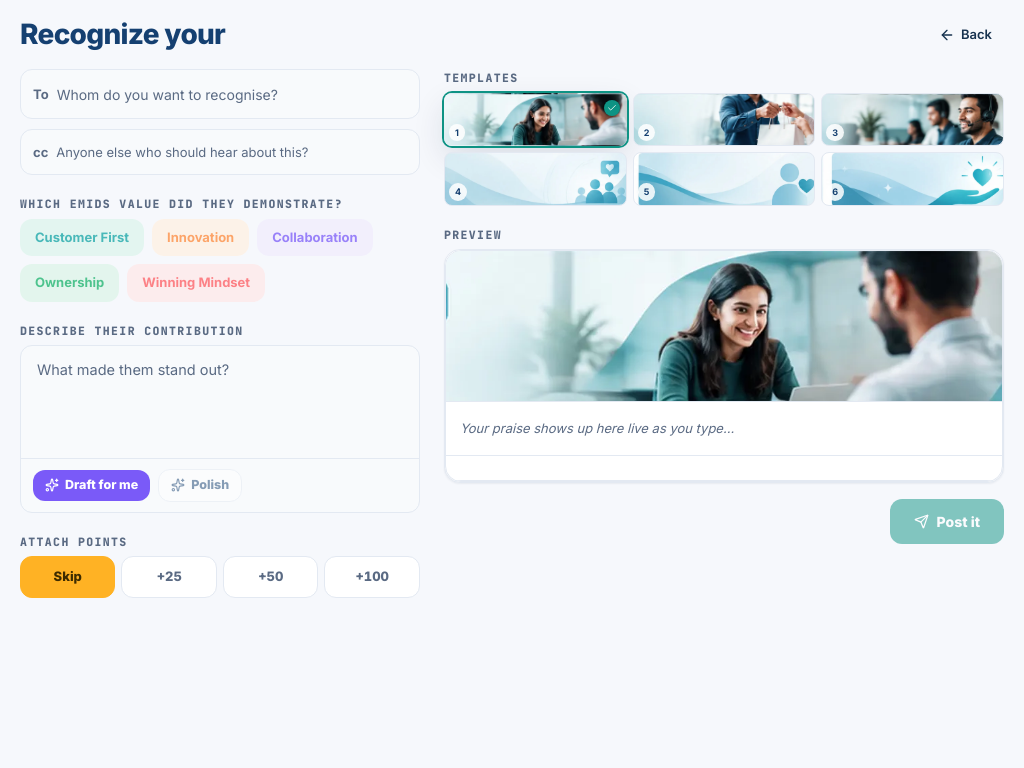
Test: ComposeForm extras (client interactions) › template variant selection and the expanded preview modal open and close
Later steps or results of the test are not shown.
In the field with placeholder "Whom do you want to recognise?": (232, 94) [57,78,407,110], type "priya"
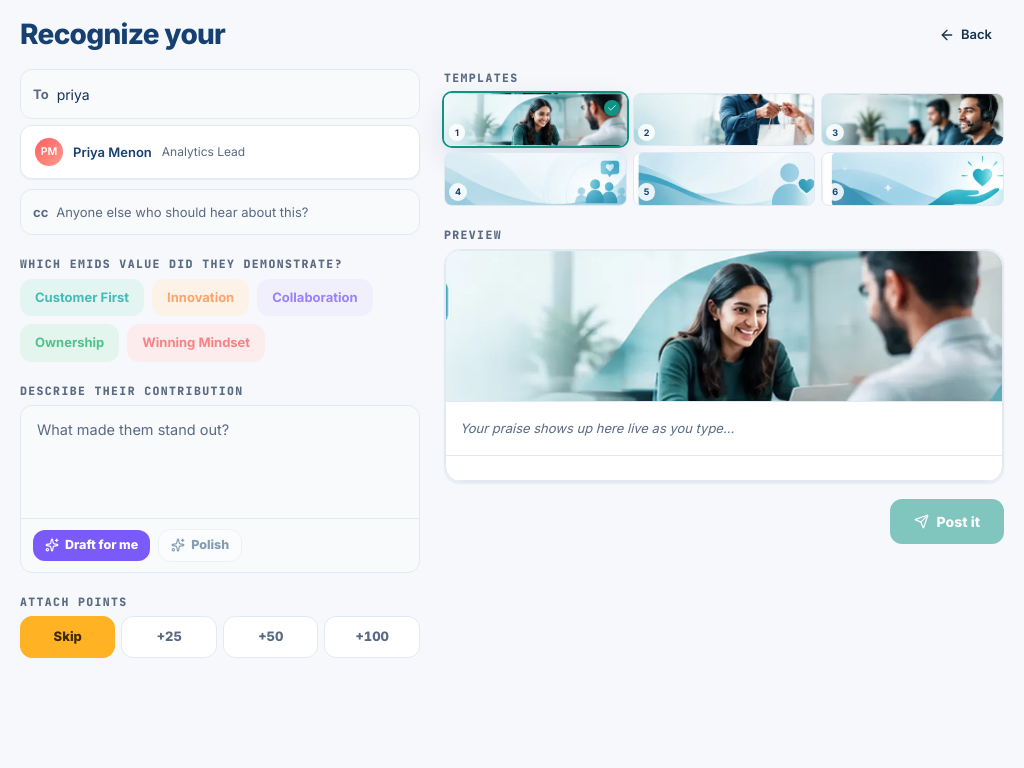
Click the text "Priya Menon": (112, 152) [73,143,152,162]
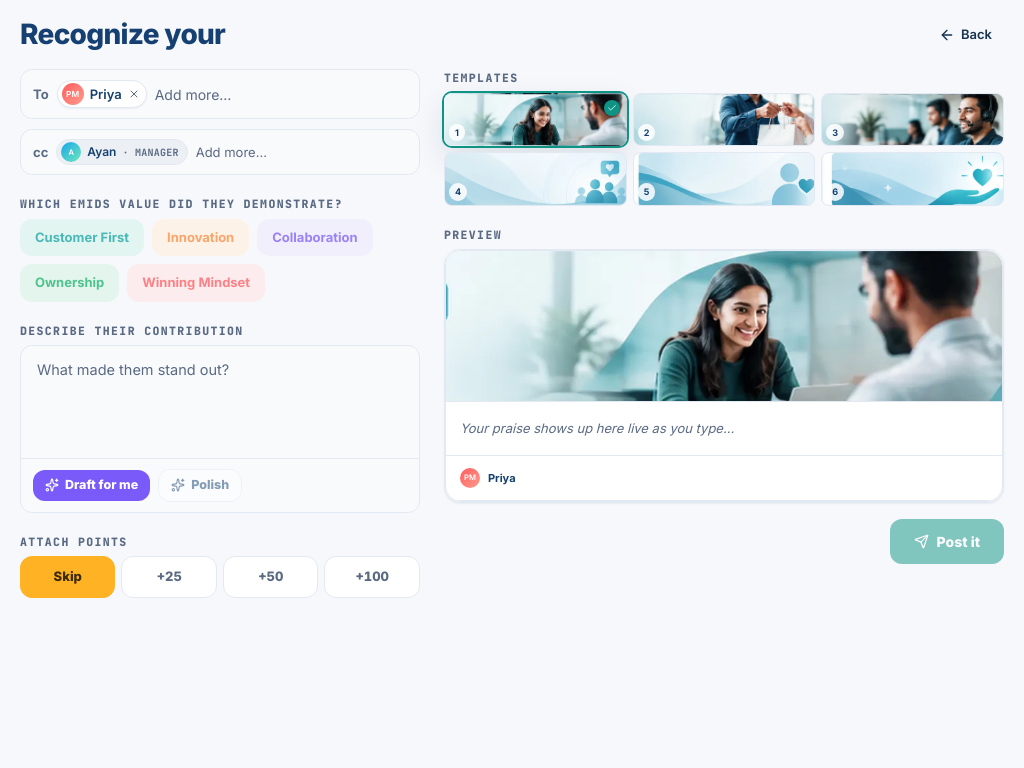
Click the button "Ownership": (70, 283) [20,264,119,302]
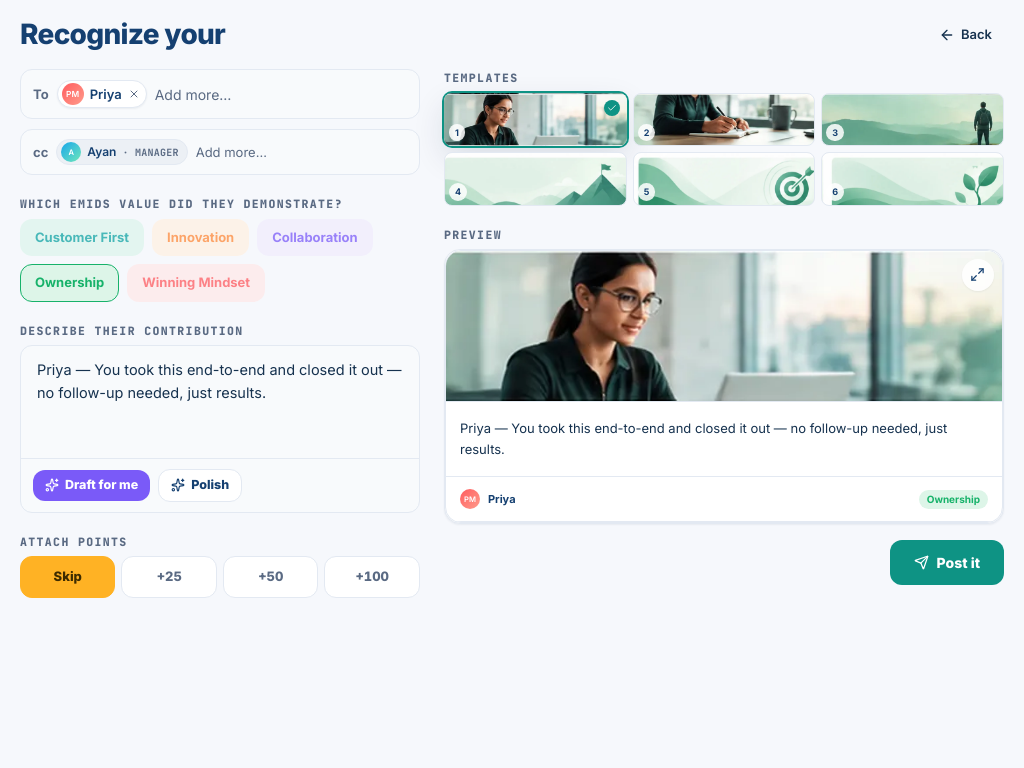
canSend unlocks the maximiser
Replace the text in the text box with placeholder "What made them stand out?" with "Priya shipped the migration ahead of the deadline.": (220, 399) [21,346,419,452]
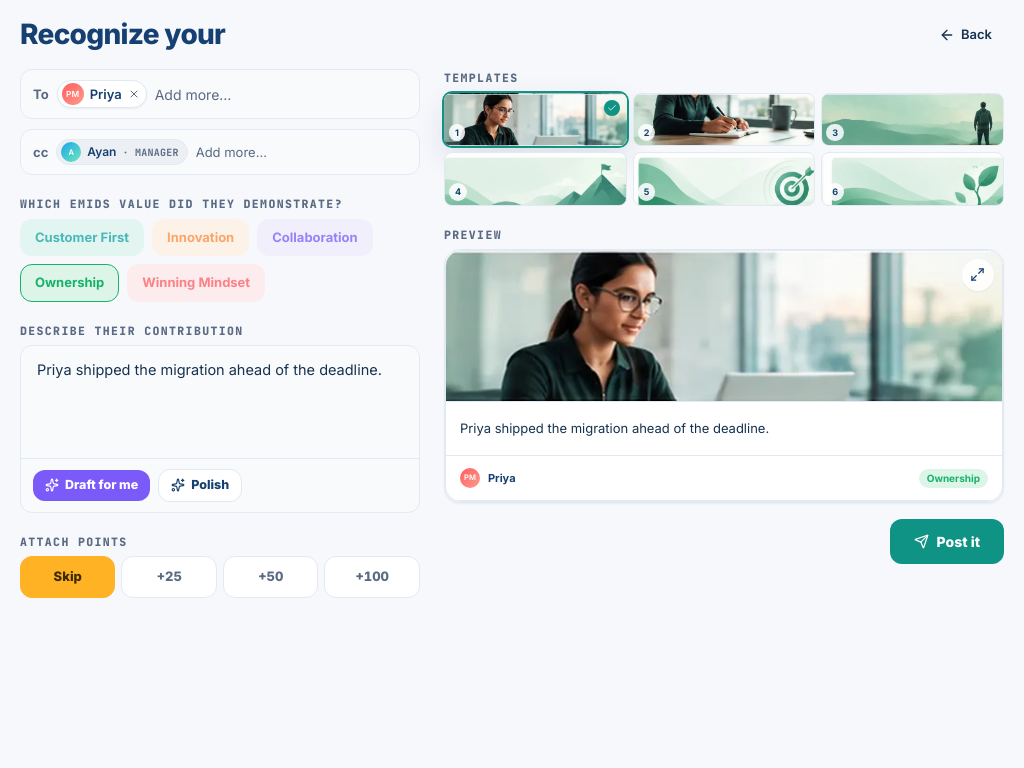
Click the button named "Template option 2": (724, 119) [633,93,815,146]
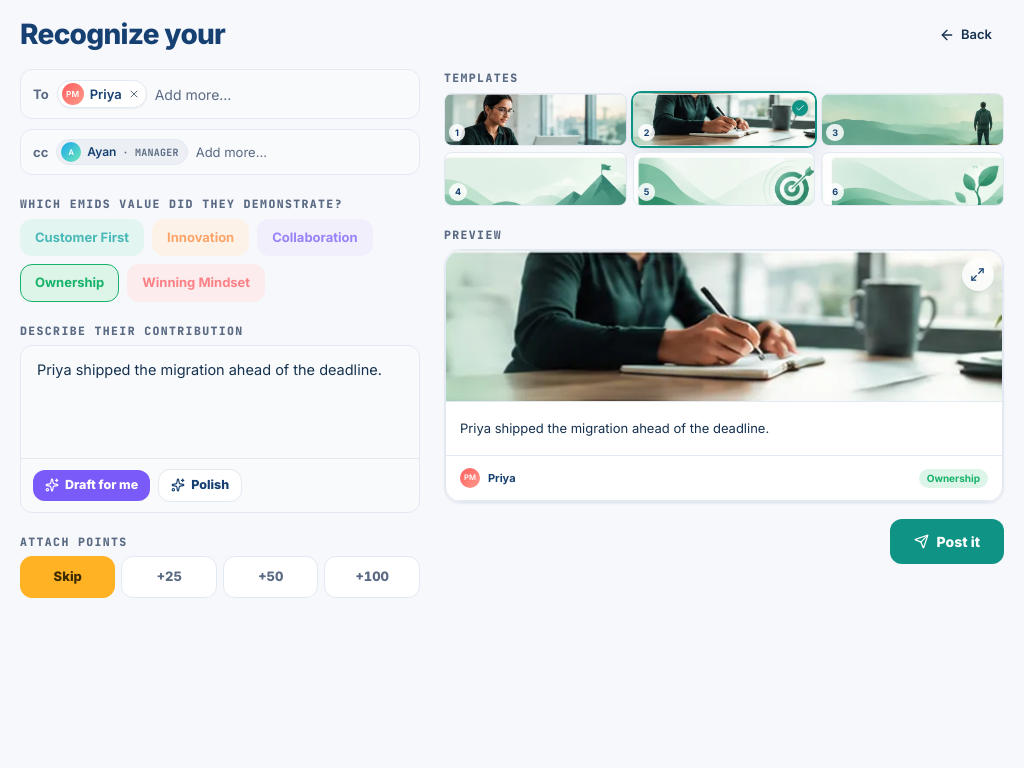
Check: the button named "Template option 2" is pressed, box [633,93,815,146]
Click the button named "Expand preview": (978, 275) [962,259,994,291]
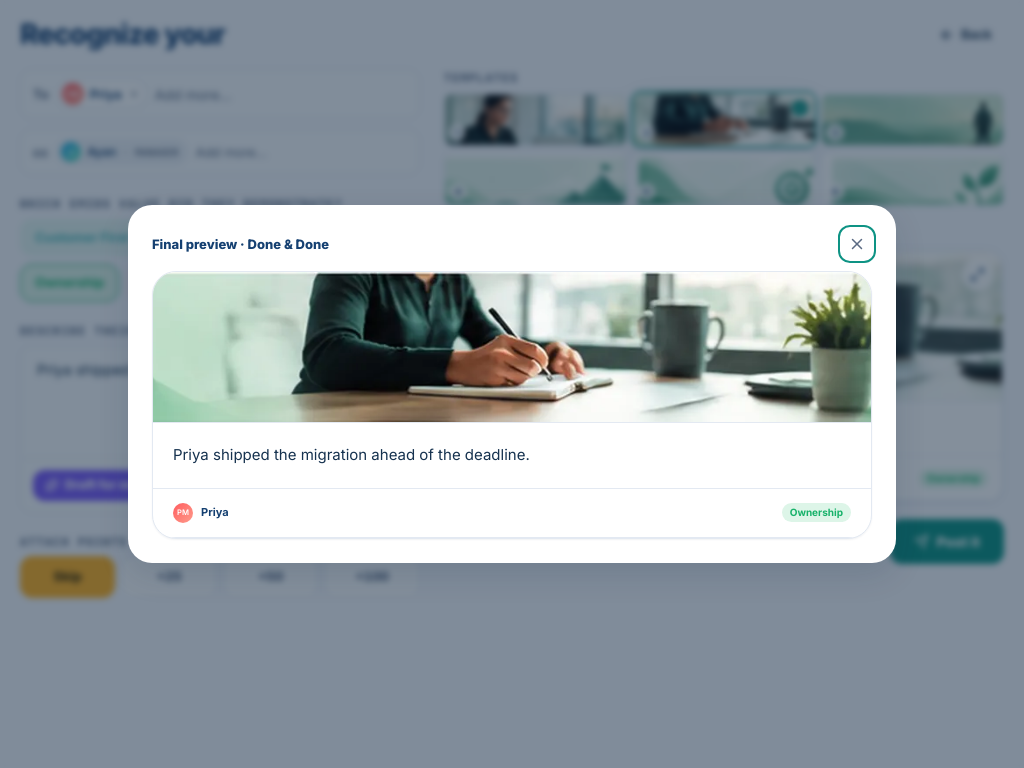
Check: the dialog named "Template preview" shows "Final preview ·", box [152,236,248,252]
